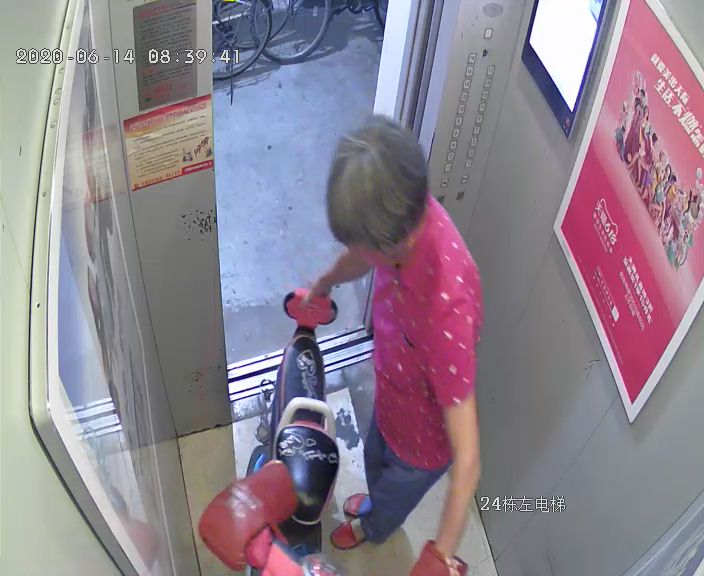Electric-bicycle: (239, 286, 346, 571)
